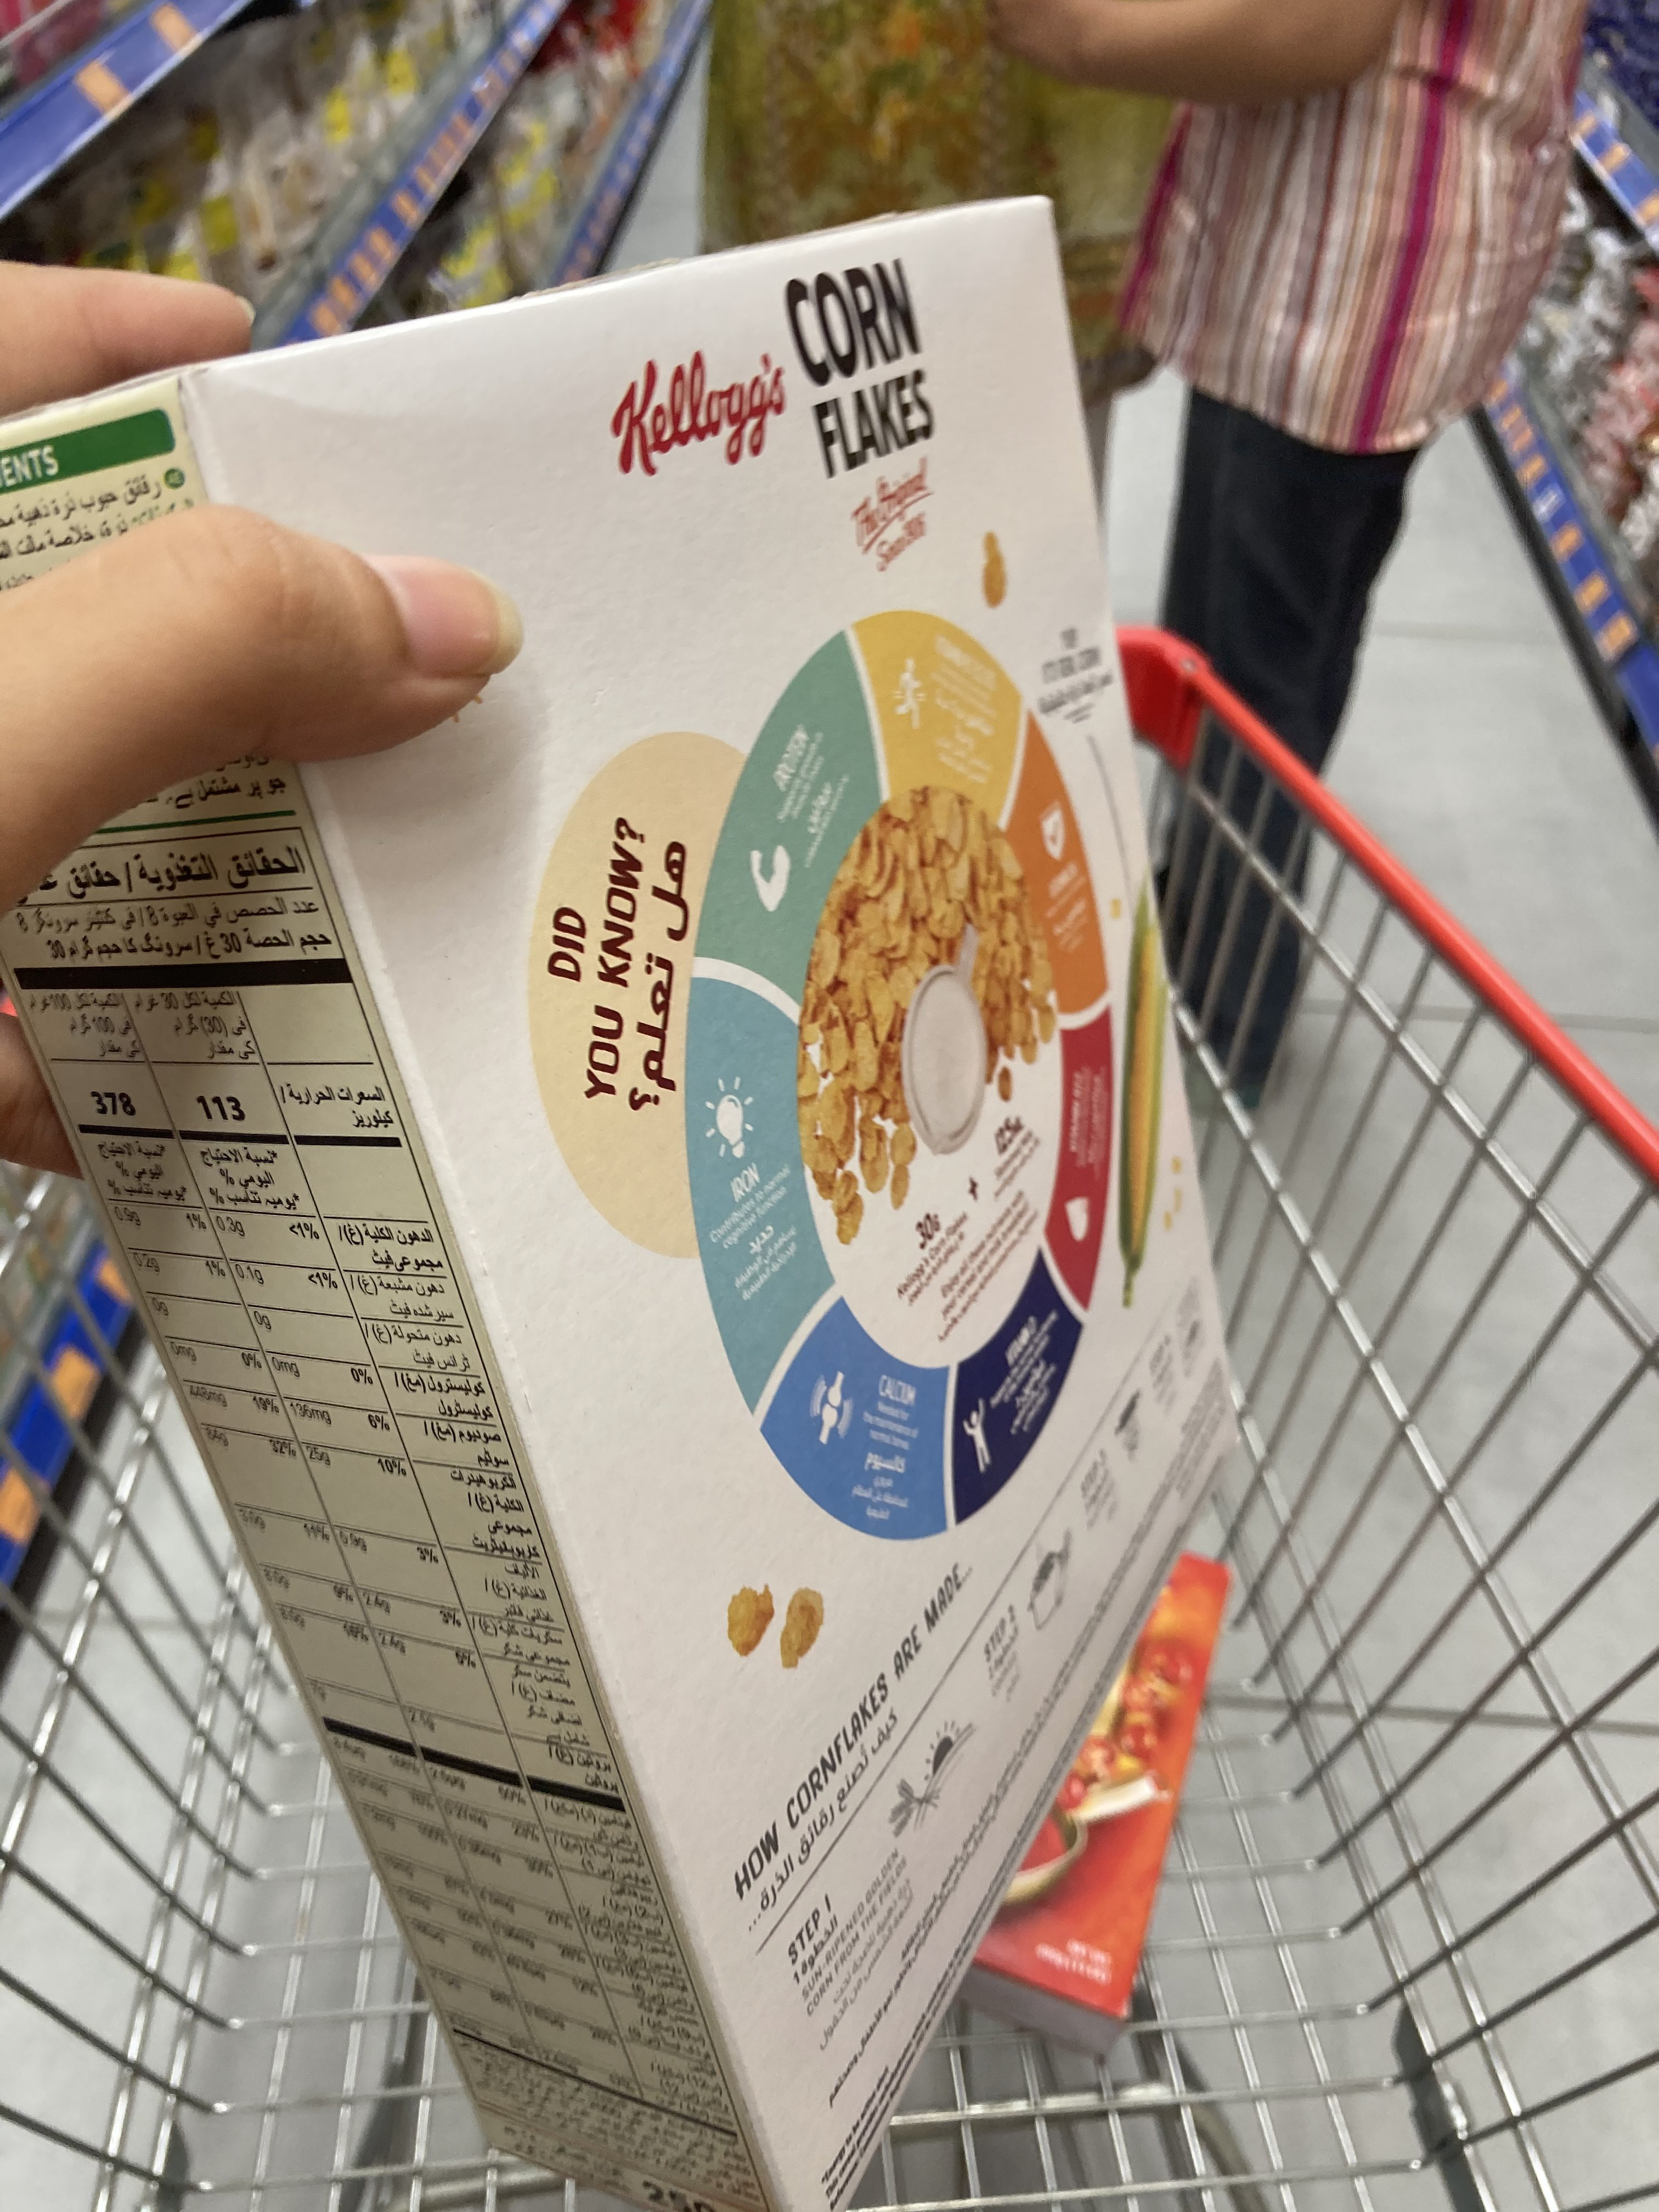Kellogg's Corn Flakes: (12, 193, 1253, 2212)
